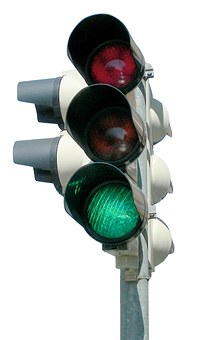trafic: (62, 15, 151, 252)
